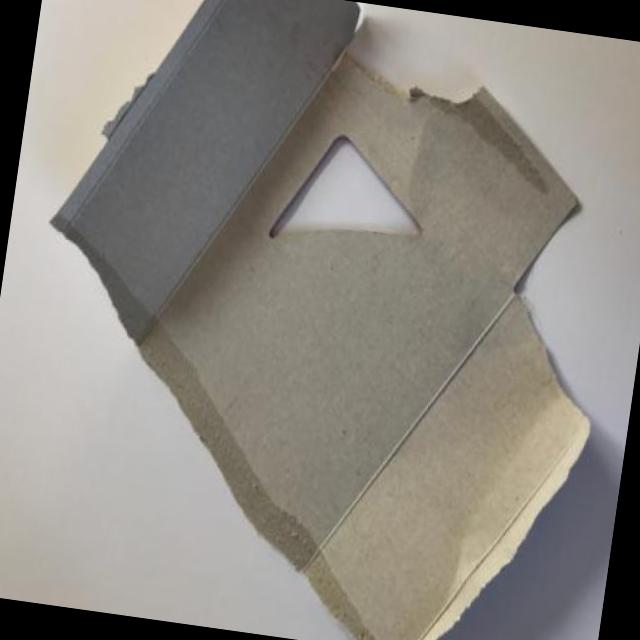giay: (50, 0, 591, 640)
